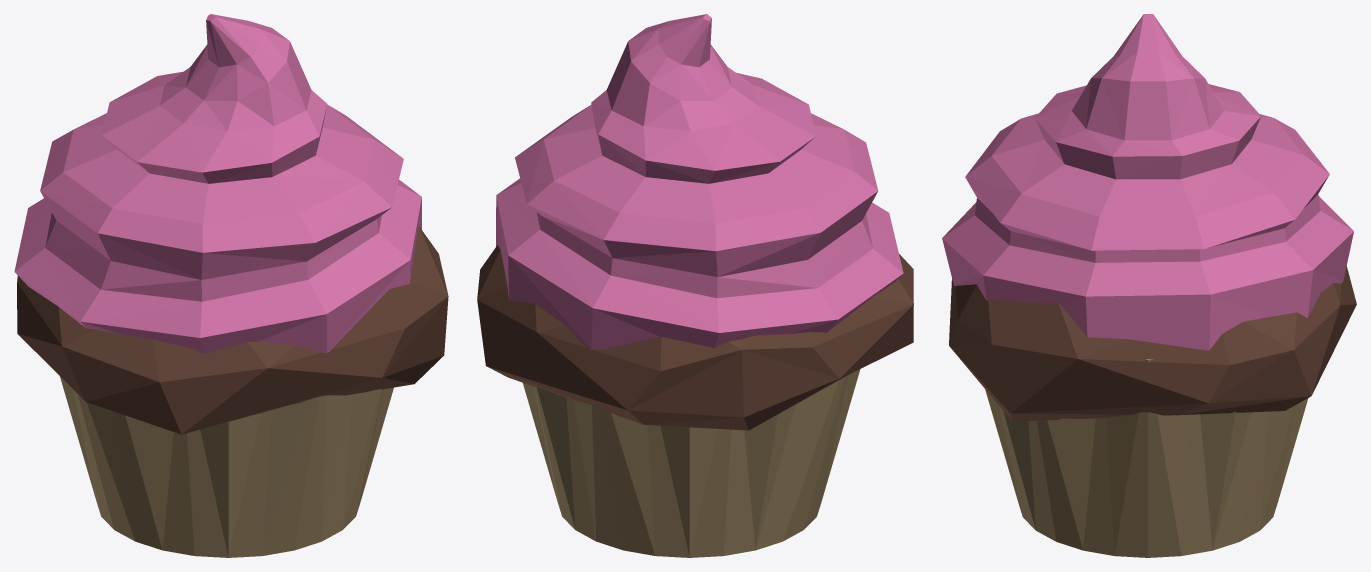
File: cupcake.glb
3 views of the same model, side by side, from view 1: azimuth 30°, elevation 25°; view 2: azimuth 150°, elevation 25°; view 3: azimuth 270°, elevation 25° (orthographic).
Visible parts, largest first — view 1: Cupcake; view 2: Cupcake; view 3: Cupcake.
Boxes of the visible parts, x1,y1,x2,y2 form: Cupcake: (14,14,448,557); Cupcake: (477,14,913,557); Cupcake: (942,14,1356,557).
Size of the model in its own units: 0.7342 by 0.9299 by 0.7258.
